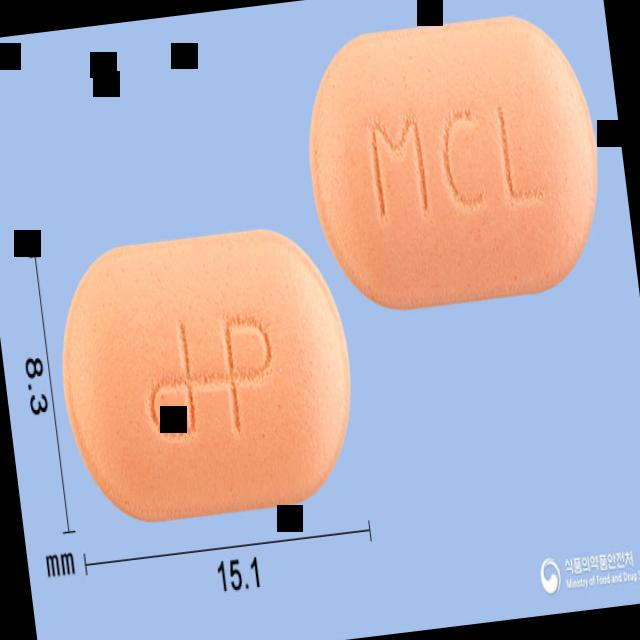Arava - 20mg: (47, 218, 366, 531), (295, 6, 613, 319)
